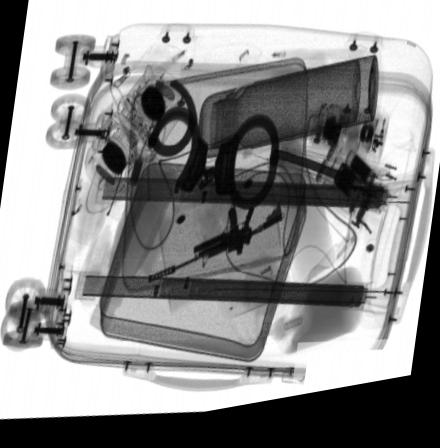Gun: (147, 211, 284, 290)
HandCuffs: (145, 85, 278, 220)
